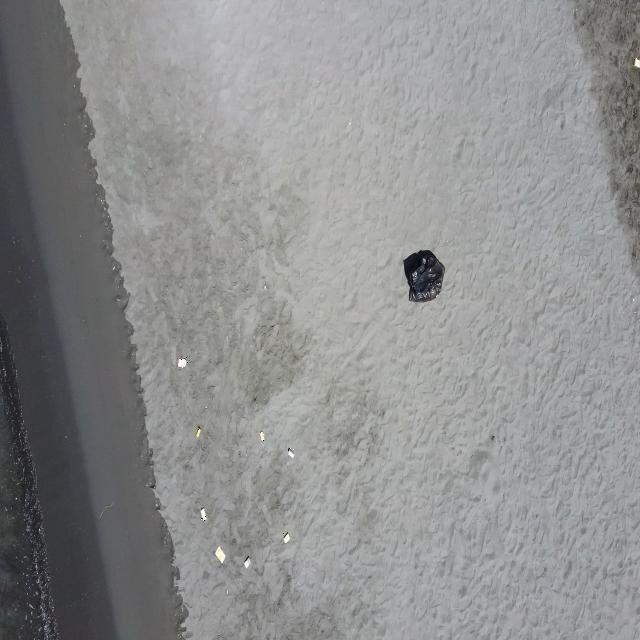Garbage: (404, 249, 443, 299), (99, 502, 114, 517), (215, 546, 223, 563), (176, 356, 186, 367), (200, 507, 206, 520), (283, 532, 289, 543), (195, 424, 200, 437), (633, 57, 639, 67), (243, 557, 249, 567), (287, 447, 292, 457), (260, 431, 263, 440)
